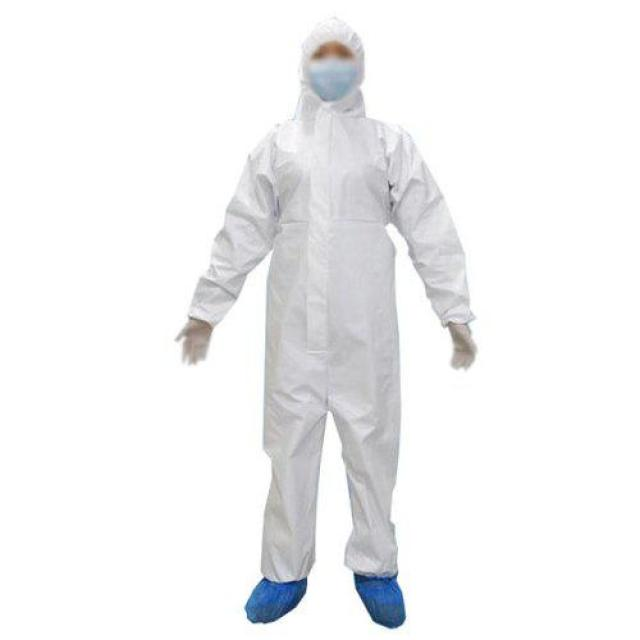Mask: (302, 58, 362, 97)
